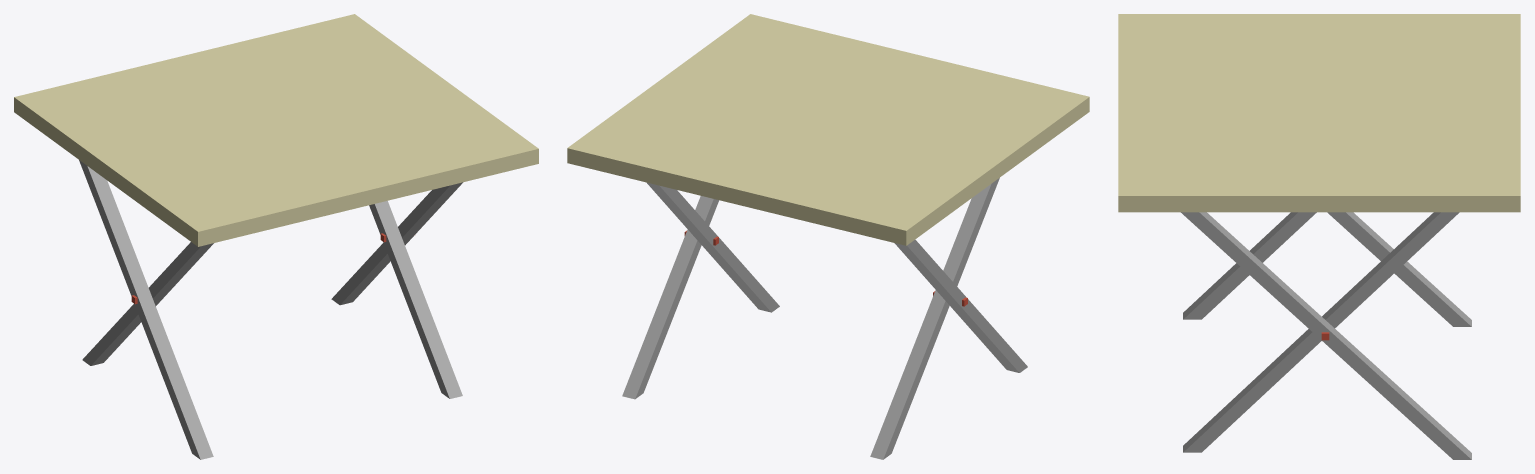
Rendered from SM_Table_01.fbx.
3 renders of one model, left to right at view 1: azimuth 30°, elevation 25°; view 2: azimuth 150°, elevation 25°; view 3: azimuth 270°, elevation 25°, orthographic. The views are drawn at different scales.
Parts seen in each view (by area): view 1: SM_Table_01; view 2: SM_Table_01; view 3: SM_Table_01.
Boxes of the visible parts, x1=… form: SM_Table_01: x1=14, y1=14, x2=538, y2=459; SM_Table_01: x1=567, y1=14, x2=1089, y2=459; SM_Table_01: x1=1118, y1=14, x2=1520, y2=459.
Bounding box in the file's own units: 101 × 72.84 × 94.37.
